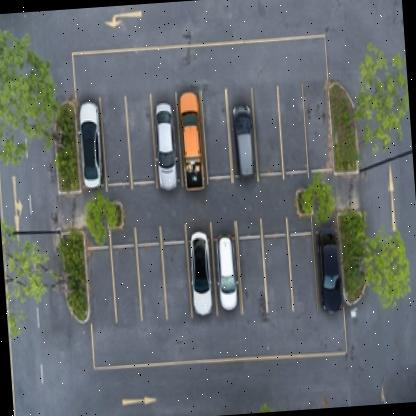Car: (178, 92, 205, 193), (228, 98, 258, 186), (315, 228, 344, 316), (186, 232, 214, 319), (152, 102, 178, 194), (213, 234, 240, 315), (78, 101, 102, 186)
Empty: (286, 234, 318, 316), (202, 87, 231, 177), (304, 81, 333, 168), (278, 84, 307, 171), (127, 95, 154, 184), (252, 86, 280, 171), (101, 96, 128, 184), (161, 242, 189, 324), (263, 236, 291, 318), (238, 237, 265, 318), (112, 248, 140, 325), (137, 245, 164, 324), (88, 250, 114, 328)
